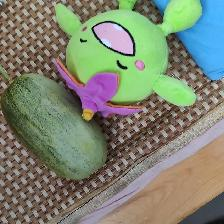gua: (13, 80, 99, 177)
